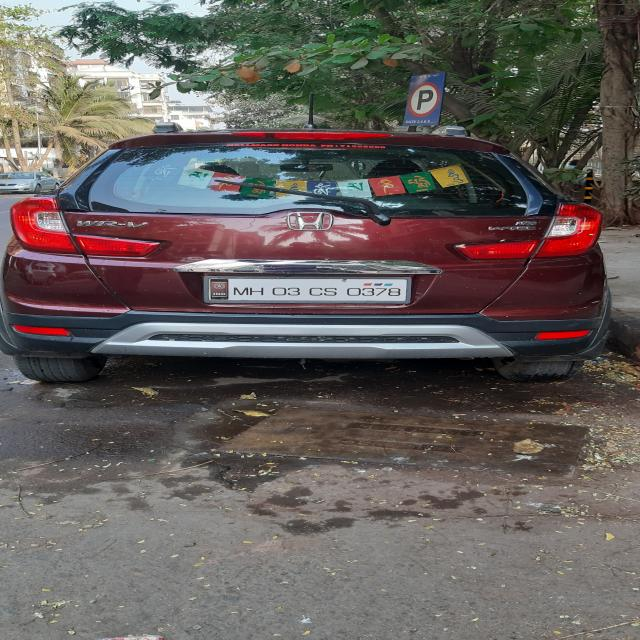Number-Plate: (228, 280, 414, 300)
